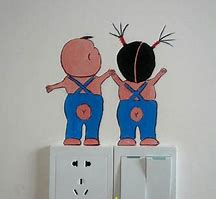switch: (145, 155, 172, 199), (121, 156, 145, 199)
